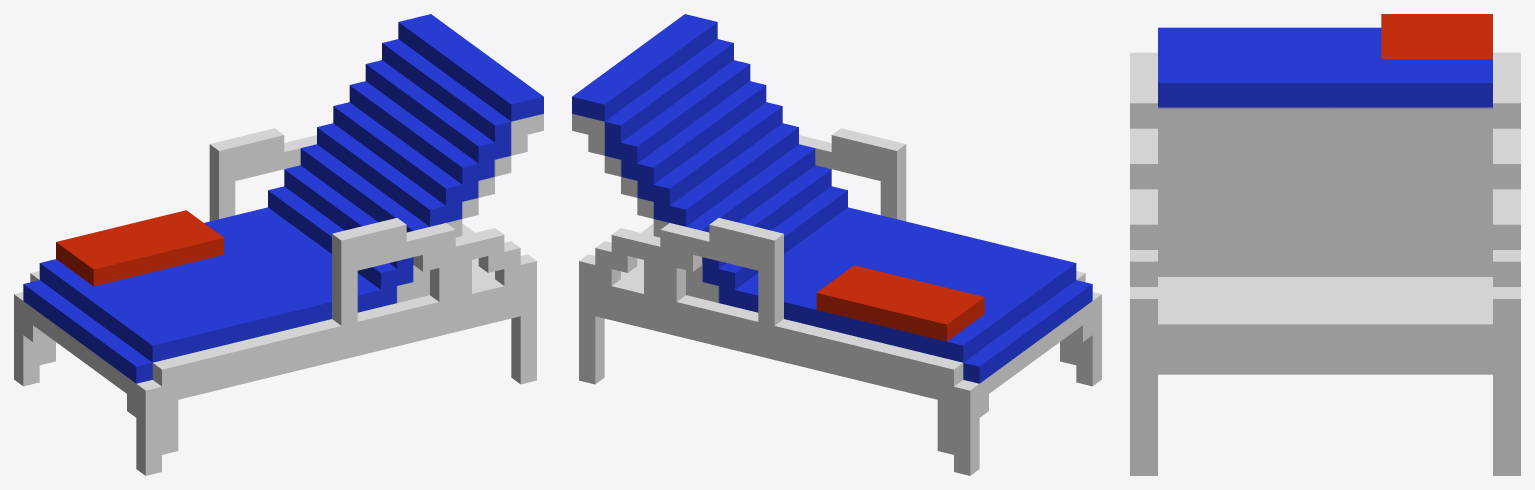
Rendered from beach_chair_3.fbx.
The picture shows the model from 3 angles, left to right: view 1: azimuth 30°, elevation 25°; view 2: azimuth 150°, elevation 25°; view 3: azimuth 270°, elevation 25°; orthographic projection. The views are drawn at different scales.
Parts seen in each view (by area): view 1: beach_chair_3; view 2: beach_chair_3; view 3: beach_chair_3.
Boxes of the visible parts, <box> form: beach_chair_3: <box>14,14,543,475</box>; beach_chair_3: <box>572,14,1101,475</box>; beach_chair_3: <box>1130,14,1520,475</box>.
Size of the model in its own units: 25 by 16 by 14.
